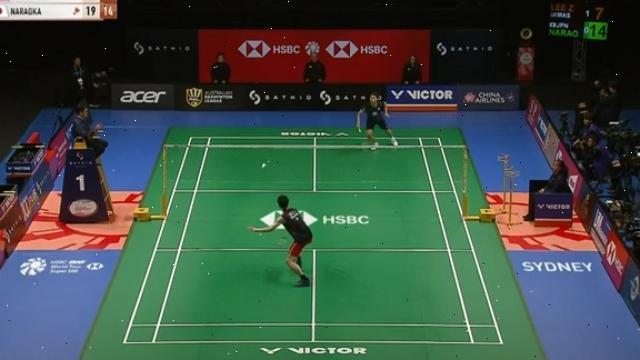Shuttlecock: (258, 160, 270, 172)
